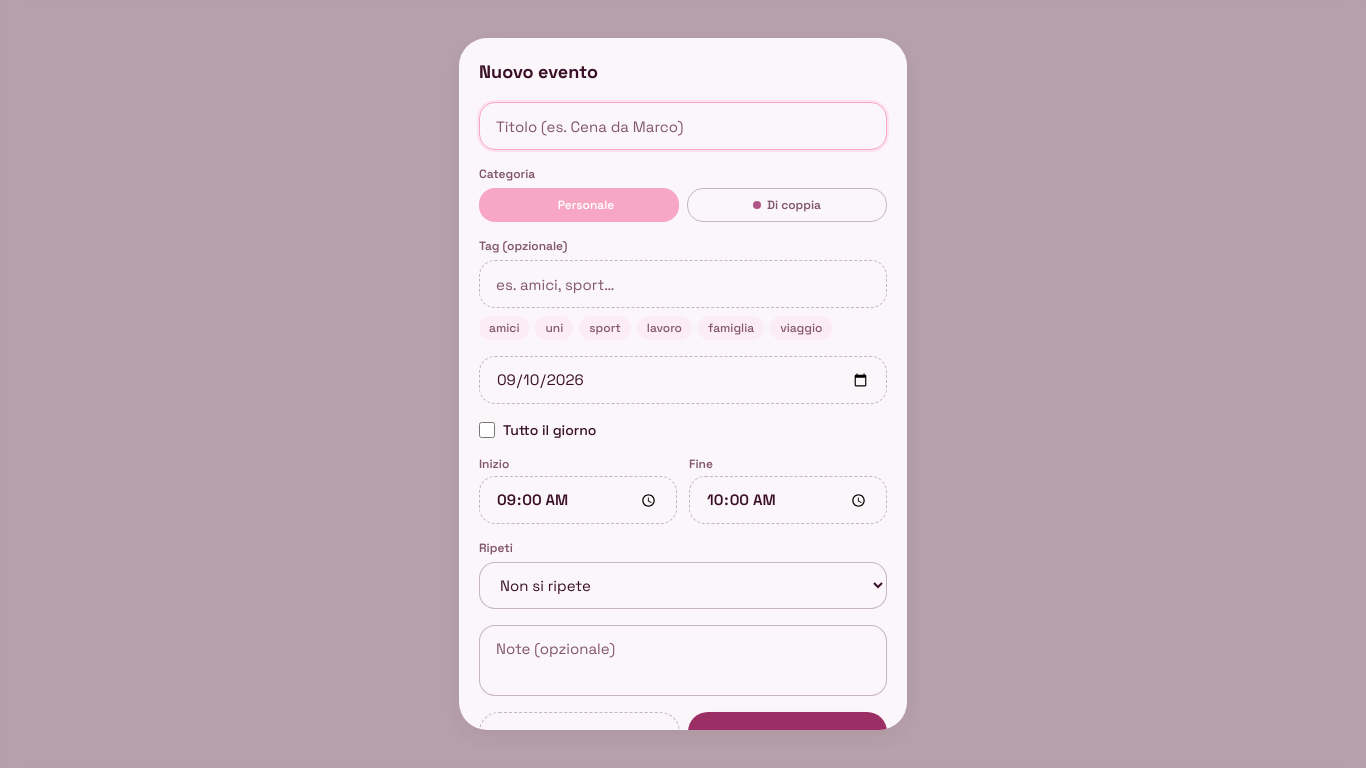
Test: EventFormModal — ricorrenza generale ('Ripeti') › aumentare l'intervallo aggiorna l'anteprima con l'unità al plurale
Select "Ogni settimana" in the dropdown named "Ripeti". click: (683, 586)
box: [479, 562, 887, 609]
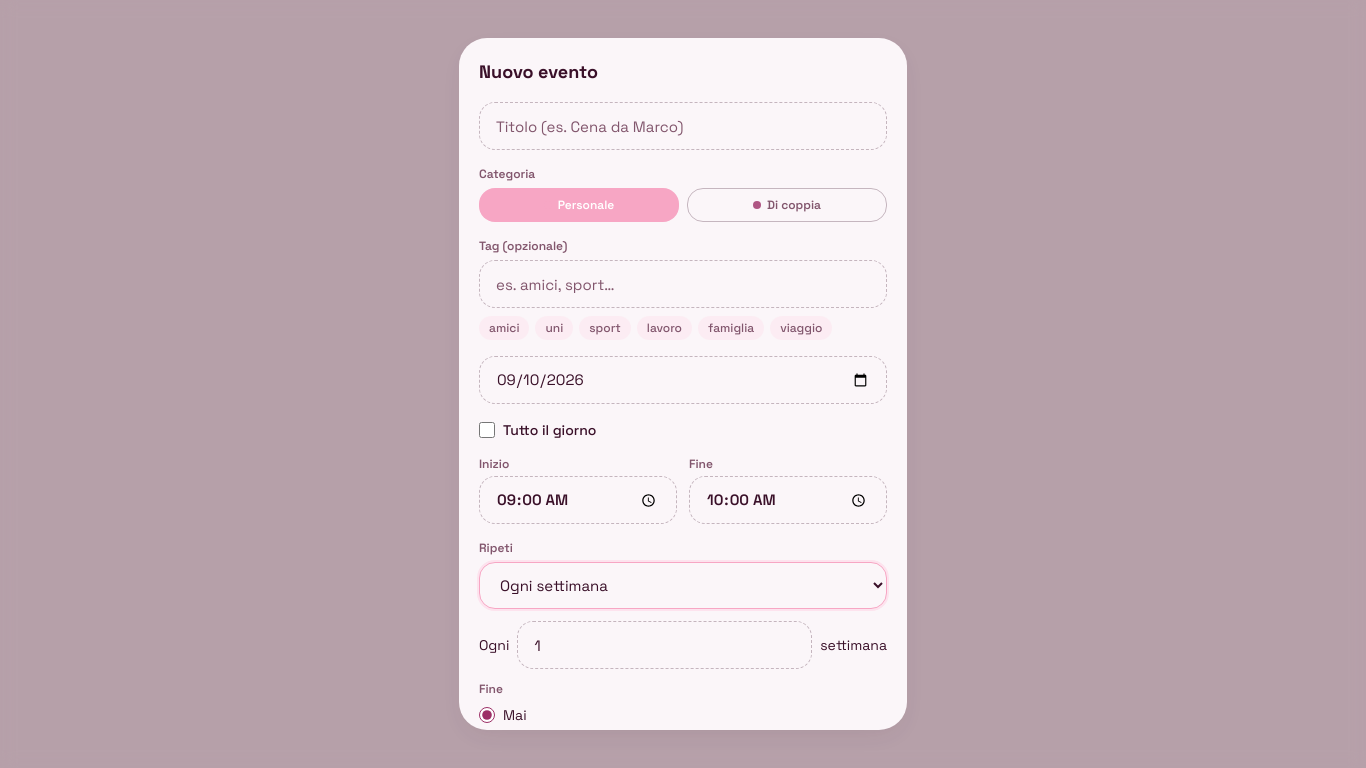
Replace the text in the number field named "Ogni quante unità" with "2". click: (665, 645)
box: [517, 621, 812, 669]
(page scrolled)
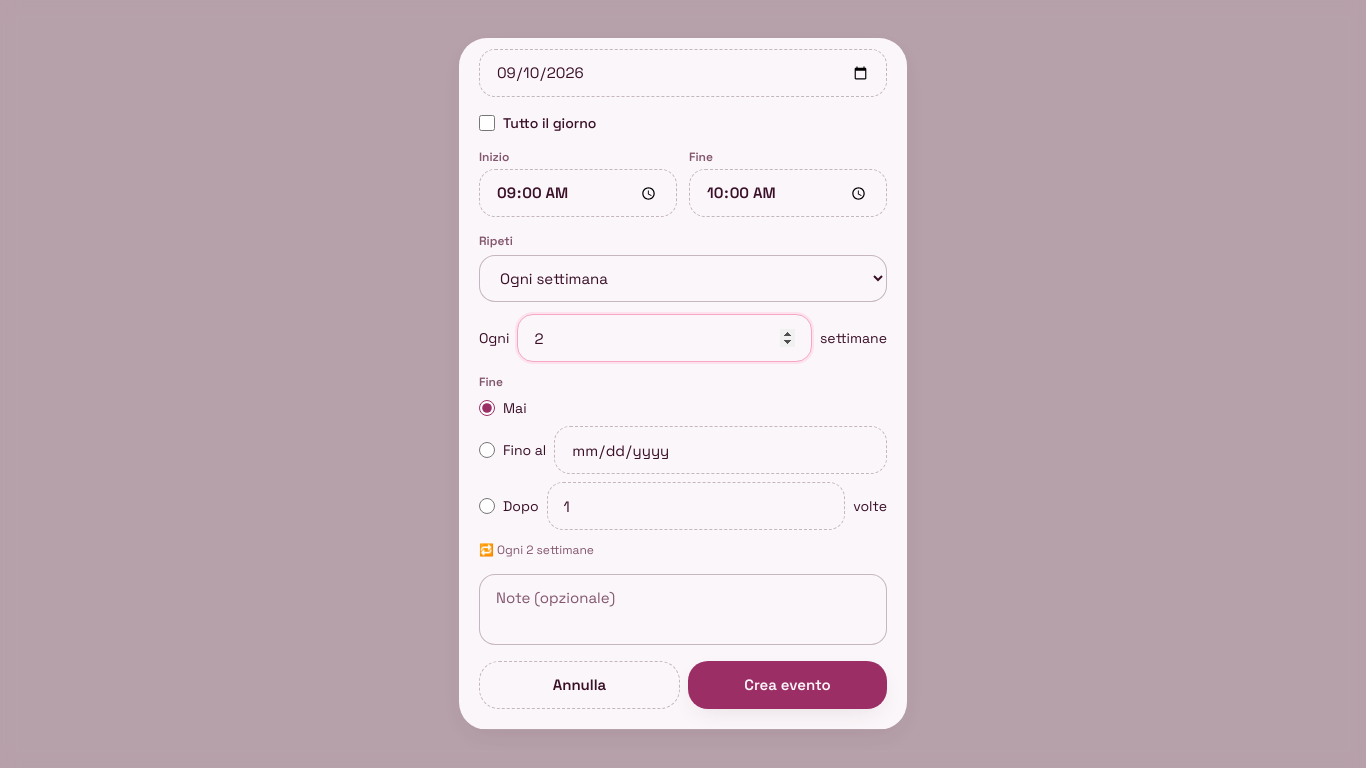
Expected: the text "🔁 Ogni 2 settimane" is shown, [479, 542, 594, 558]
